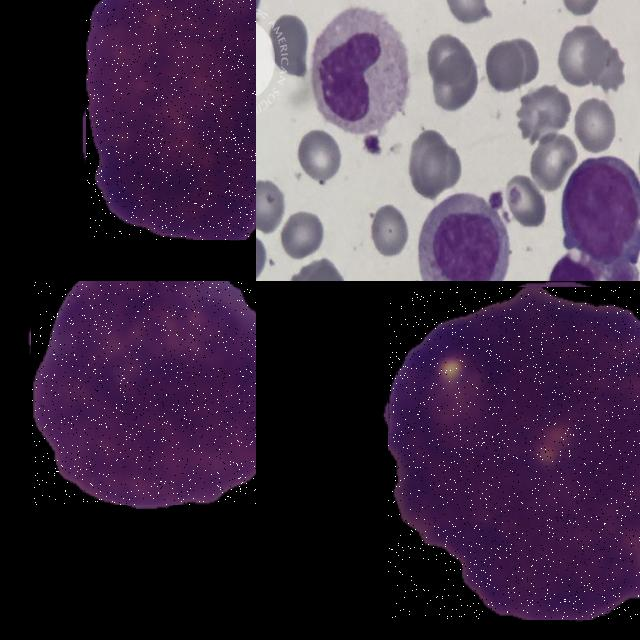ALL Negative Cells: (32, 281, 256, 505), (313, 7, 419, 139), (414, 184, 518, 281)
ALL Positive Cell: (388, 287, 640, 619), (86, 0, 256, 239), (558, 158, 640, 262), (537, 251, 604, 281)
